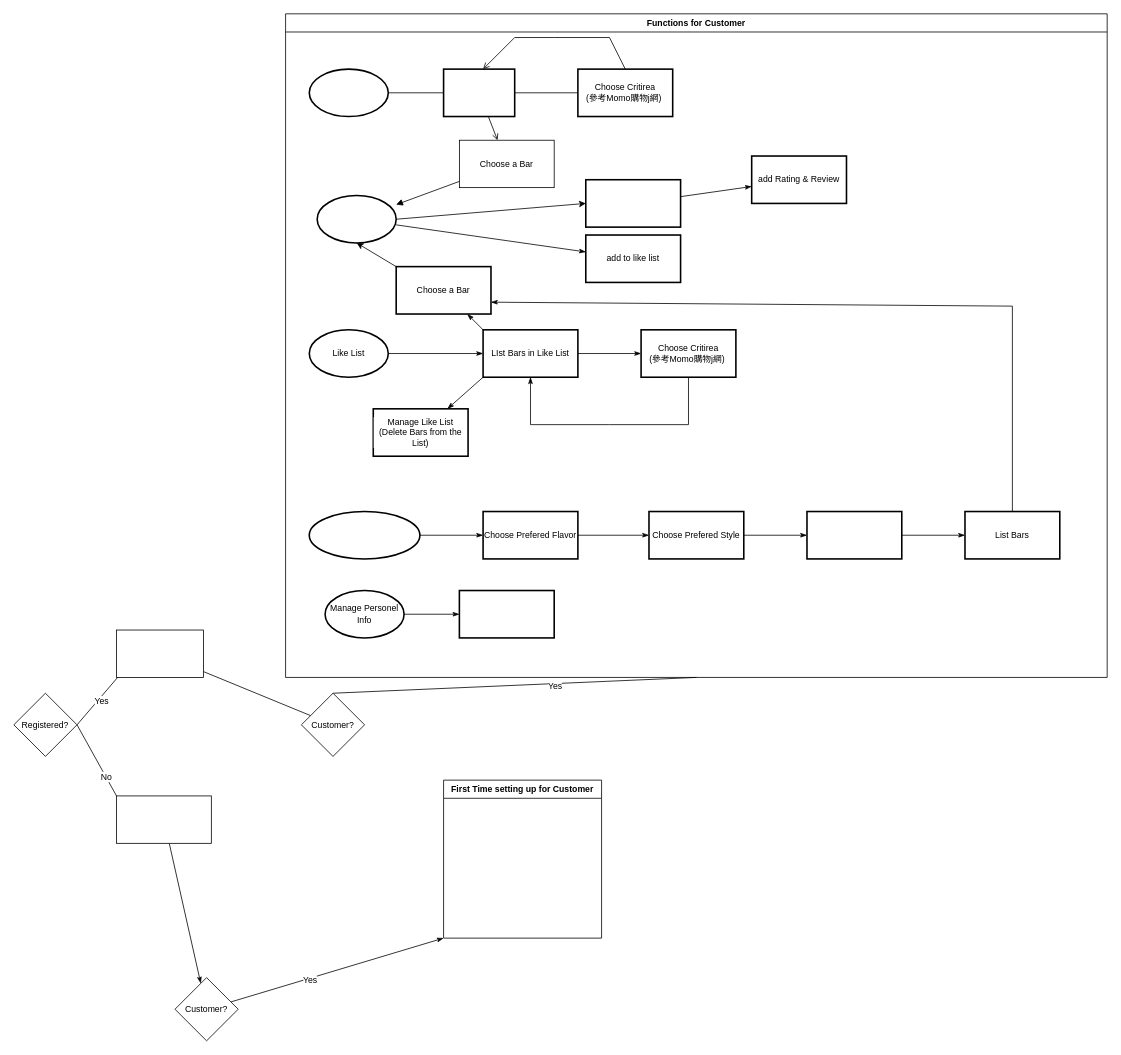
The diagram is 1121 pixels wide and 1055 high, and some of its shapes have lost their labels. The centre of each missing label's shape, as x and y in pixels:
"Change Personal Info (All Info changeable except Birthday)" belongs at (506,613).
"Choose Budget Range" belongs at (854,534).
"List all Bars that fit the critirea" belongs at (478,92).
"List Bars & Filtering" belongs at (348,92).
"Login" belongs at (159,653).
"Redo Auto Recommendation" belongs at (364,534).
"Registration" belongs at (163,819).
"View Bar Info" belongs at (356,218).
"View Bars Rating" belongs at (633,203).
